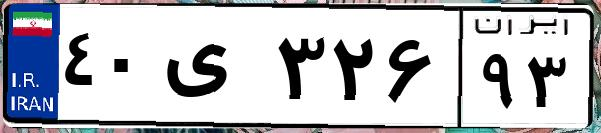0: (110, 28, 158, 98)
2: (330, 28, 385, 110)
3: (270, 28, 330, 110), (525, 38, 570, 115)
4: (57, 26, 110, 100)
6: (385, 28, 445, 110)
9: (475, 38, 525, 113)
ی: (158, 20, 270, 120)
